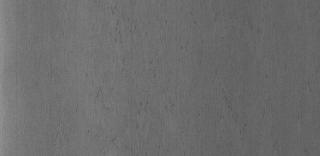silk spot: (80, 17, 262, 142)
